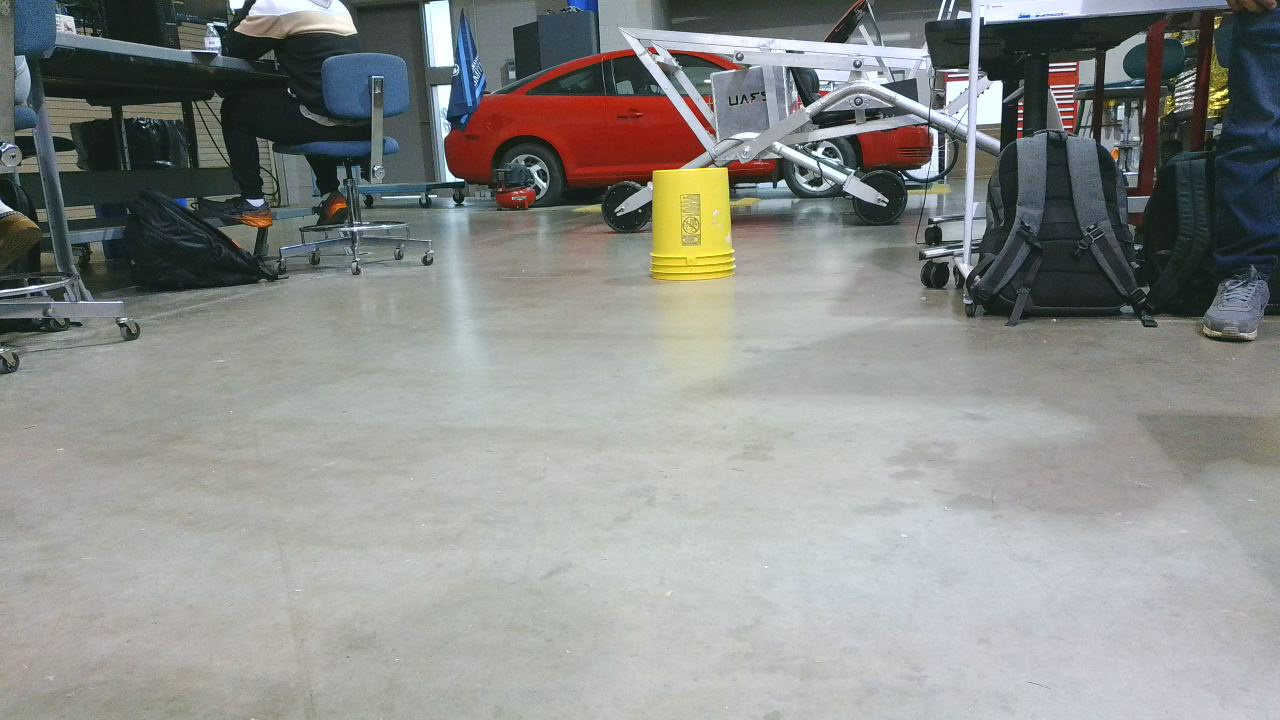yellow_bucket: (654, 172, 746, 289)
